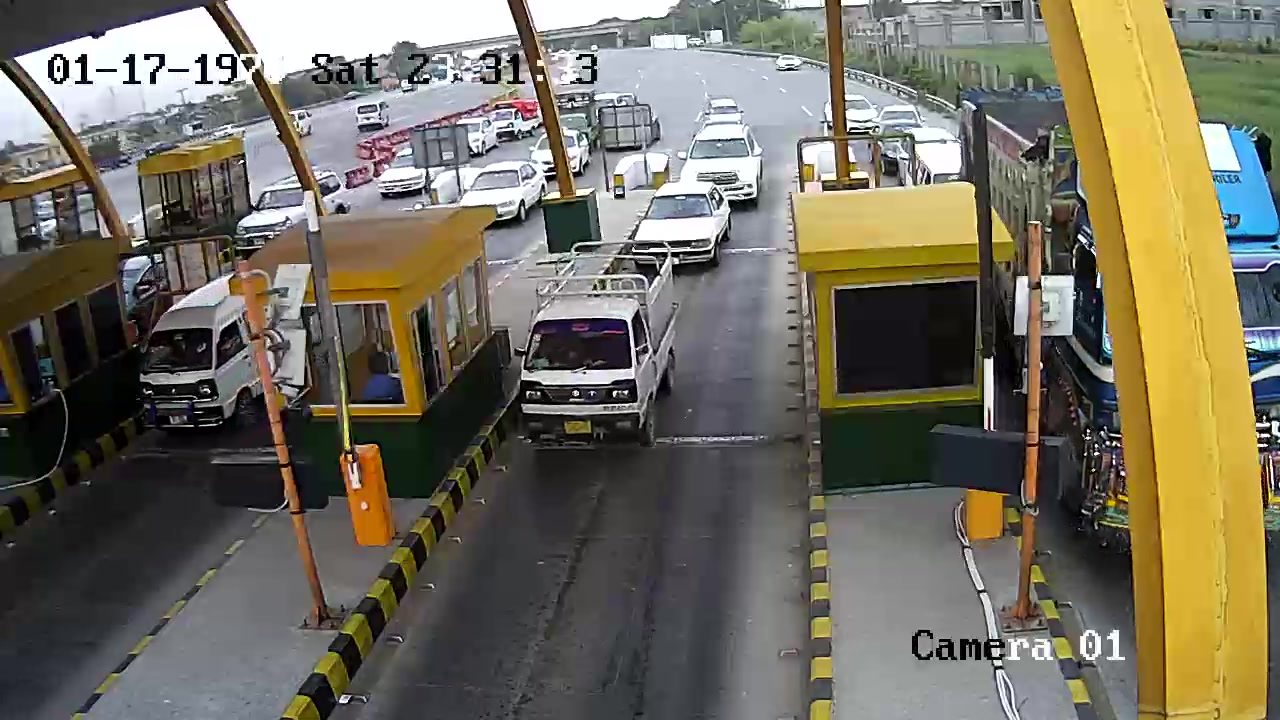F1: (516, 230, 673, 450)
